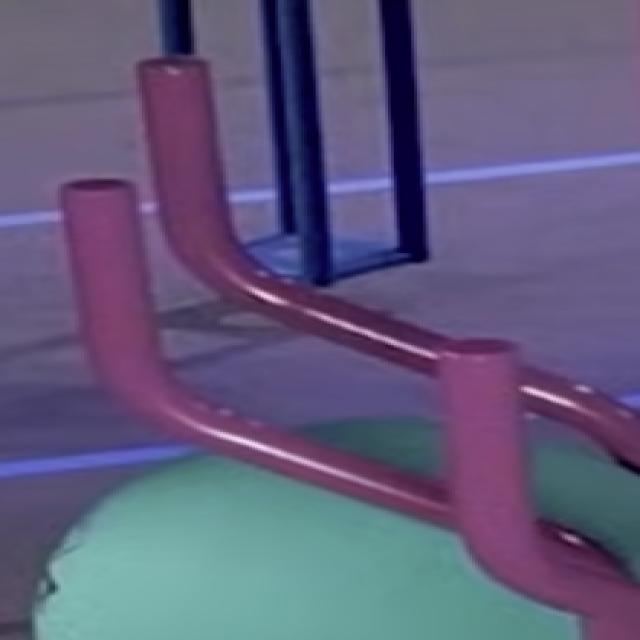Algae: (36, 419, 640, 640)
Reef: (434, 338, 534, 556), (60, 178, 161, 392), (138, 56, 234, 258)
